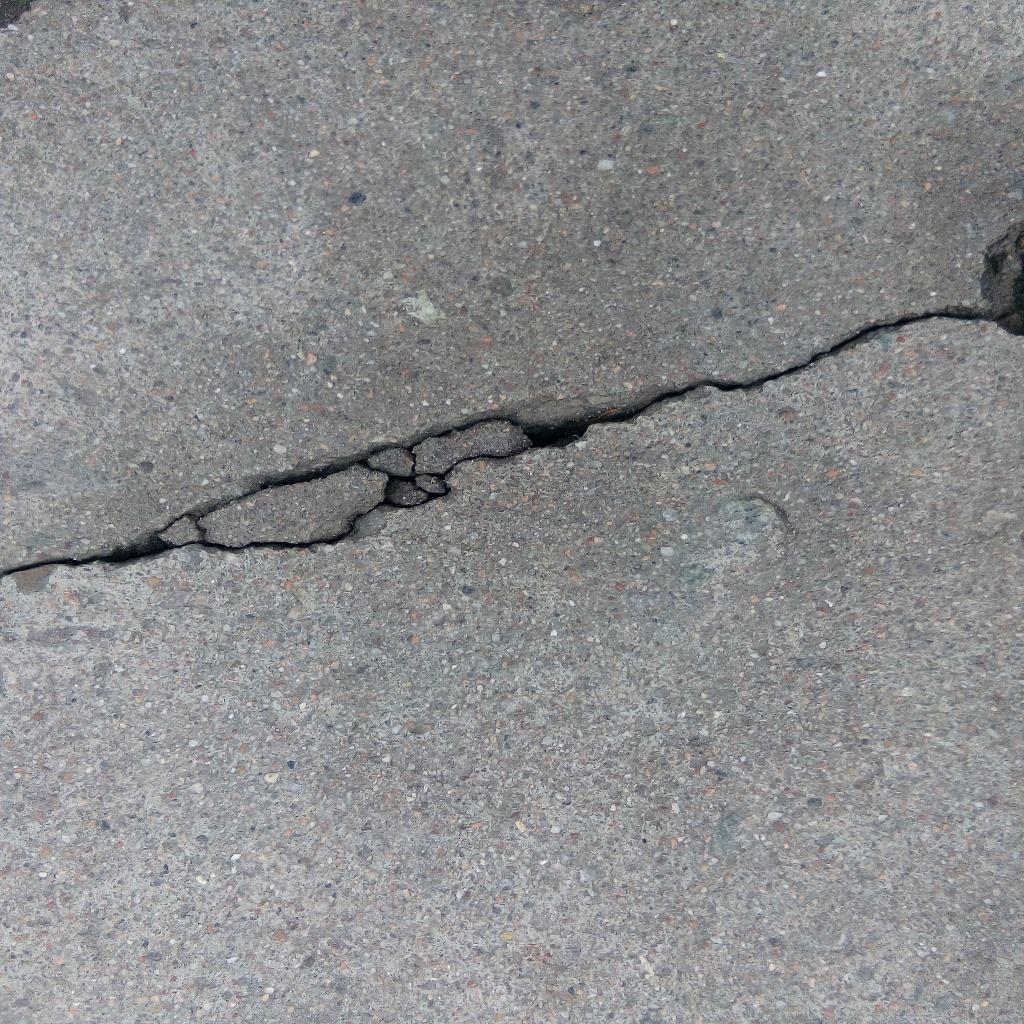Crack: (1, 300, 988, 581)
Spalling: (980, 219, 1024, 336)
